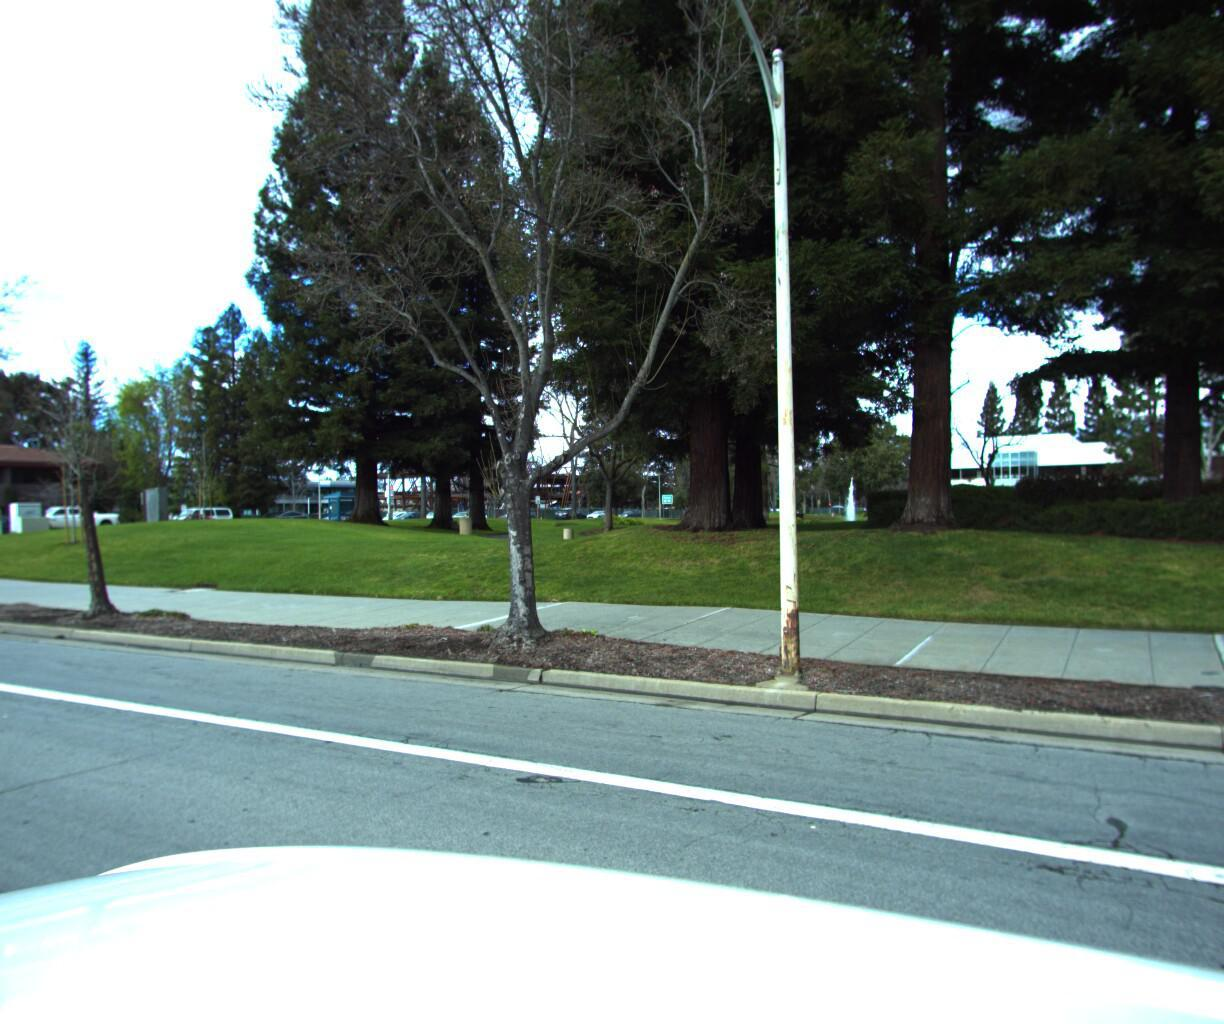car: (15, 500, 127, 533), (0, 509, 56, 544), (163, 500, 238, 526)
